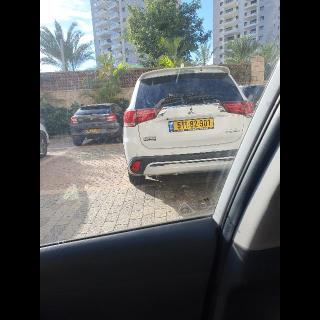LicensePlate: (174, 119, 214, 130)
